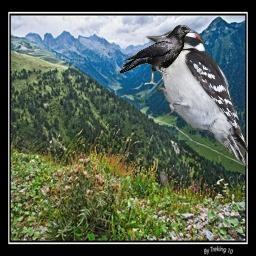Crow: (119, 24, 195, 86)
Woodpecker: (146, 29, 248, 169)
